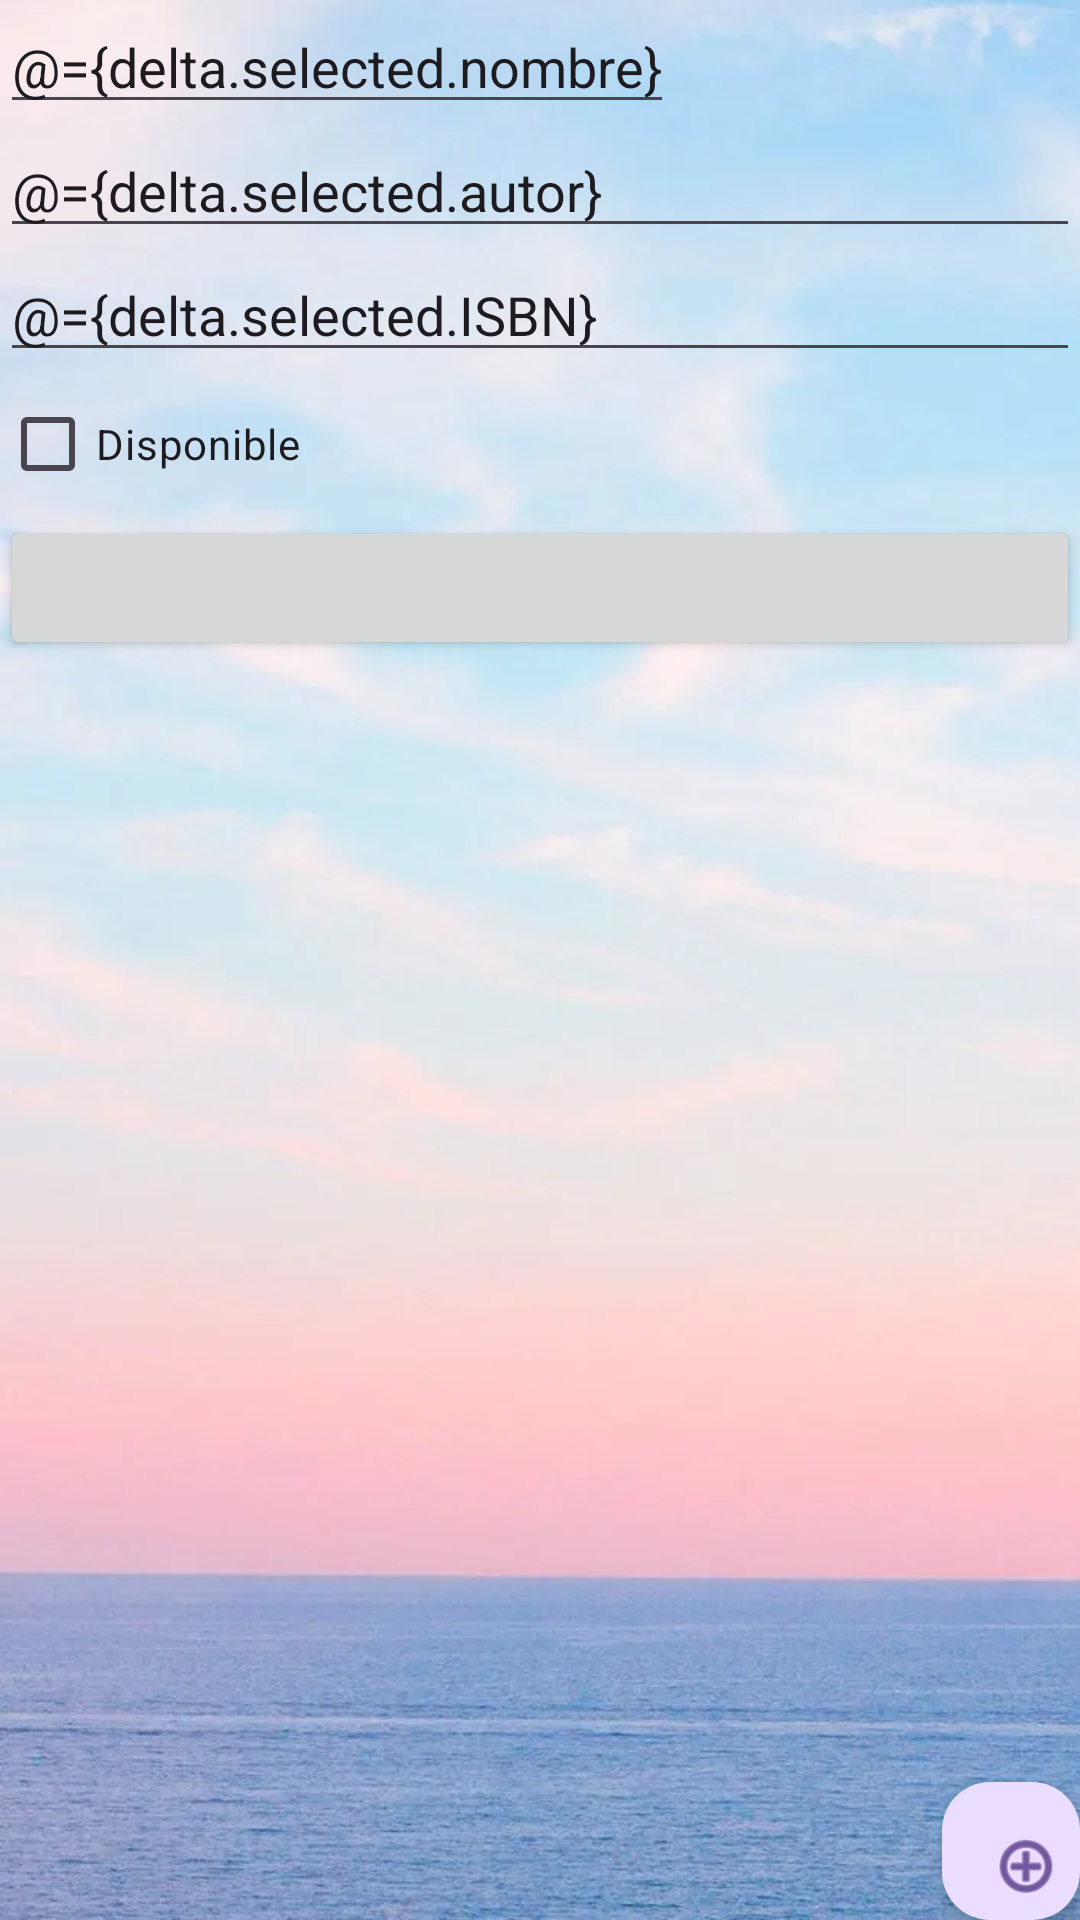

Icon click points for this 1080px×1920px phone screenshot, format [x,y]:
add: [1011,1851]
